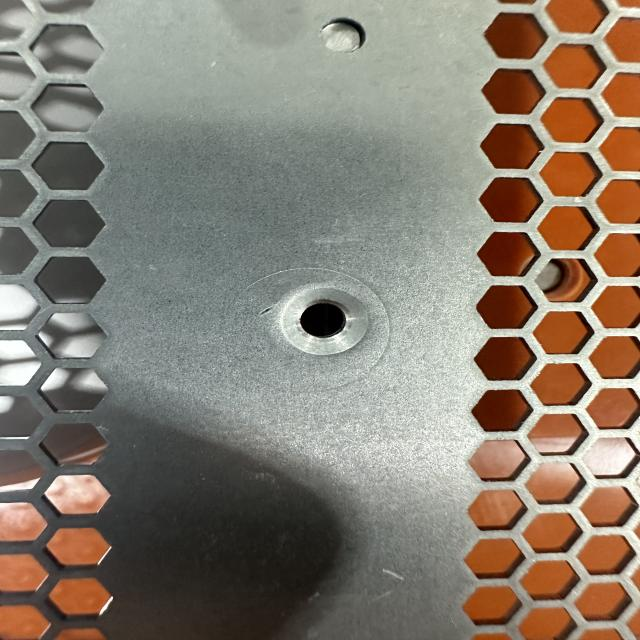Missing screw: (270, 282, 384, 364)
